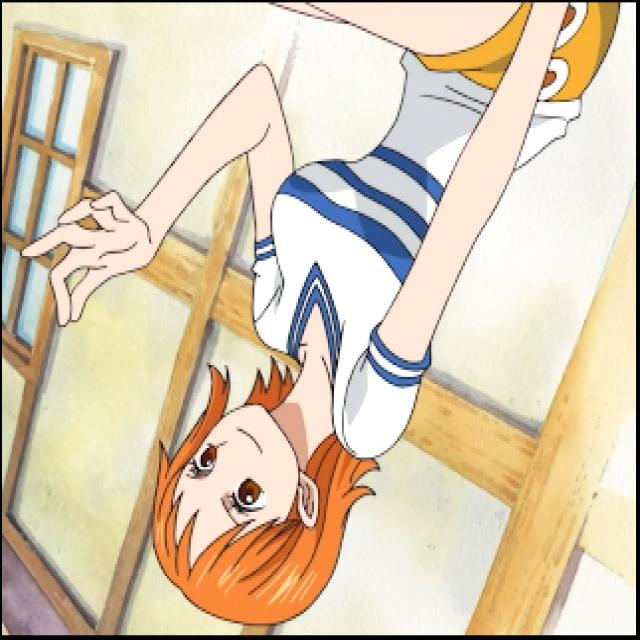Nami: (2, 2, 630, 636)
